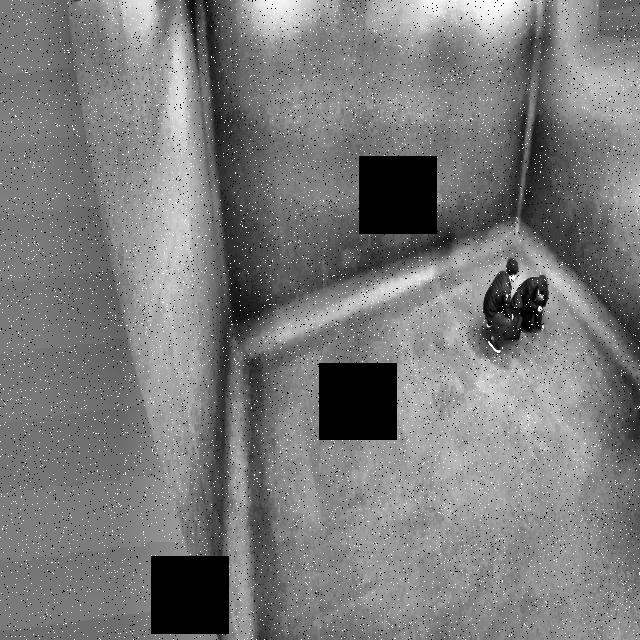assult: (477, 244, 557, 353)
